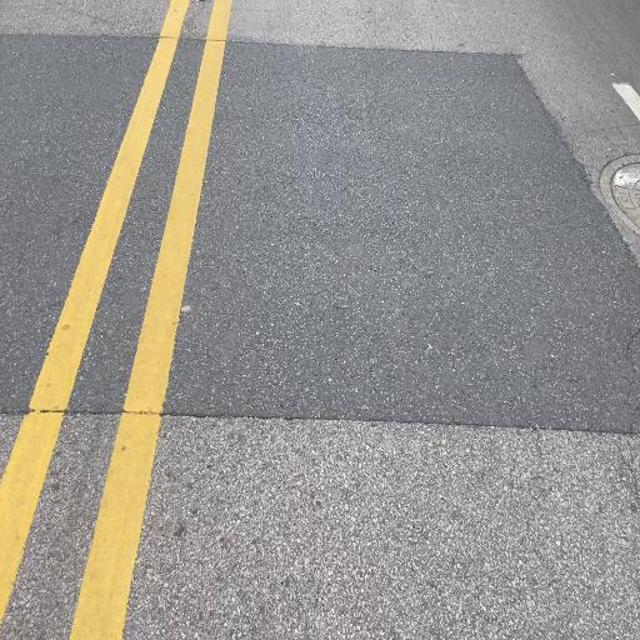Sambungan: (0, 27, 640, 444)
